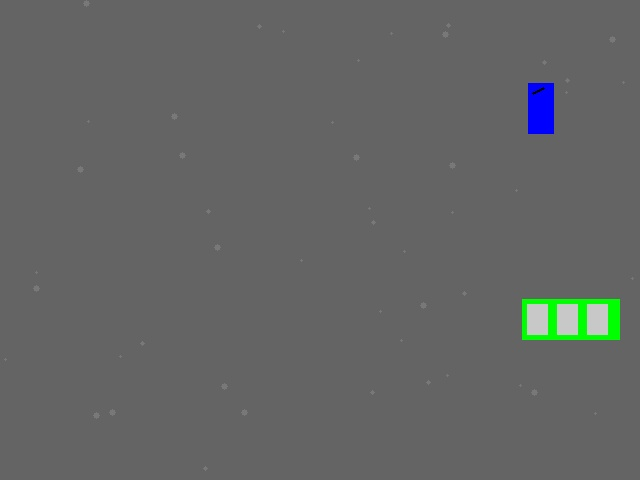bus: (522, 299, 619, 339)
motorcycle: (528, 83, 553, 133)
